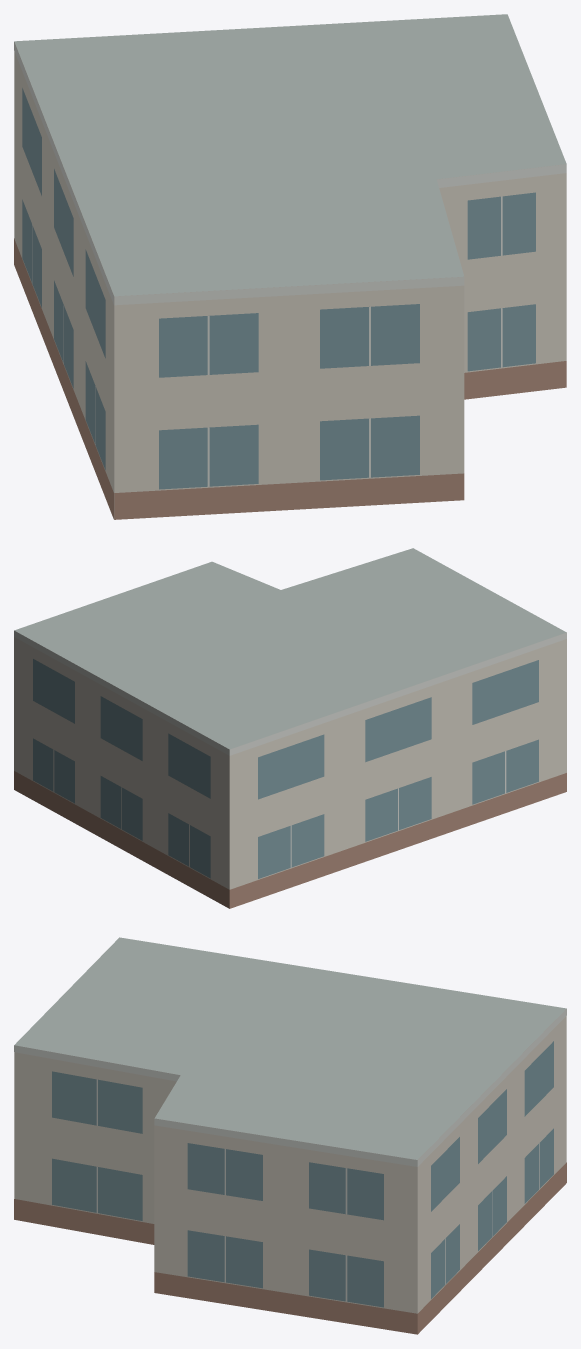
File: survey-upis-32672923.glb
The picture shows the model from 3 angles, top to bottom: view 1: azimuth 30°, elevation 25°; view 2: azimuth 150°, elevation 25°; view 3: azimuth 270°, elevation 25°; orthographic projection. The views are drawn at different scales.
Visible parts, largest first — view 1: survey-upis-32672923.tmp; view 2: survey-upis-32672923.tmp; view 3: survey-upis-32672923.tmp.
Part boxes in pixels (x1=…): survey-upis-32672923.tmp: x1=14, y1=14, x2=566, y2=519; survey-upis-32672923.tmp: x1=14, y1=548, x2=566, y2=908; survey-upis-32672923.tmp: x1=14, y1=937, x2=566, y2=1334.
Bounding box in the file's own units: 16.71 × 6.1 × 17.52.
